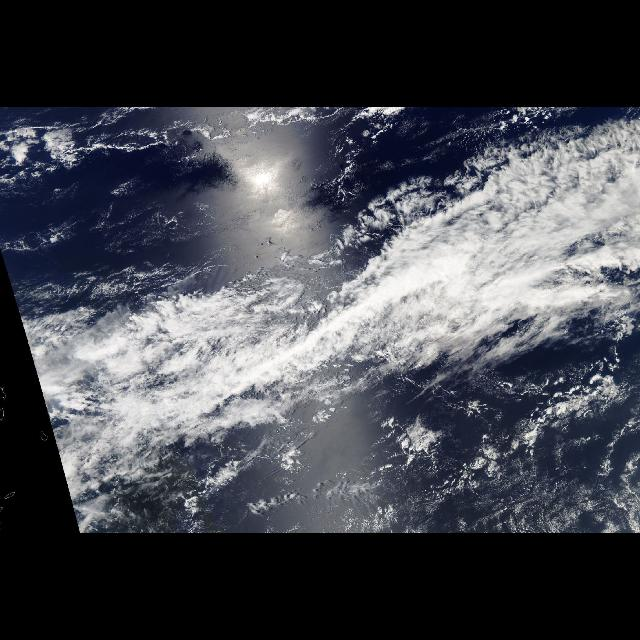Gravel: (12, 108, 400, 168)
Sugar: (328, 447, 640, 531)
